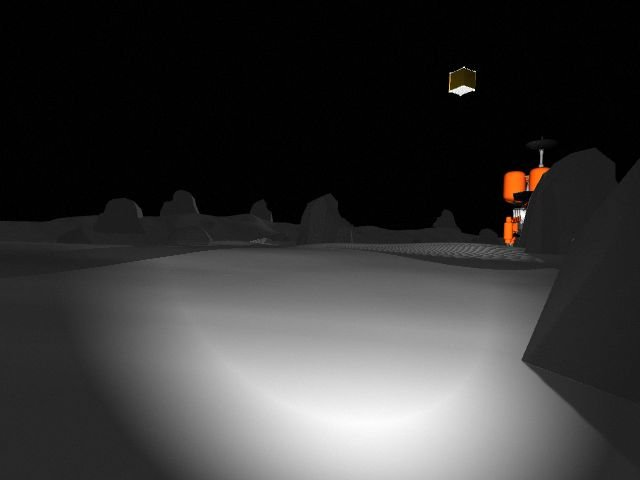cubesat: (444, 63, 478, 103)
